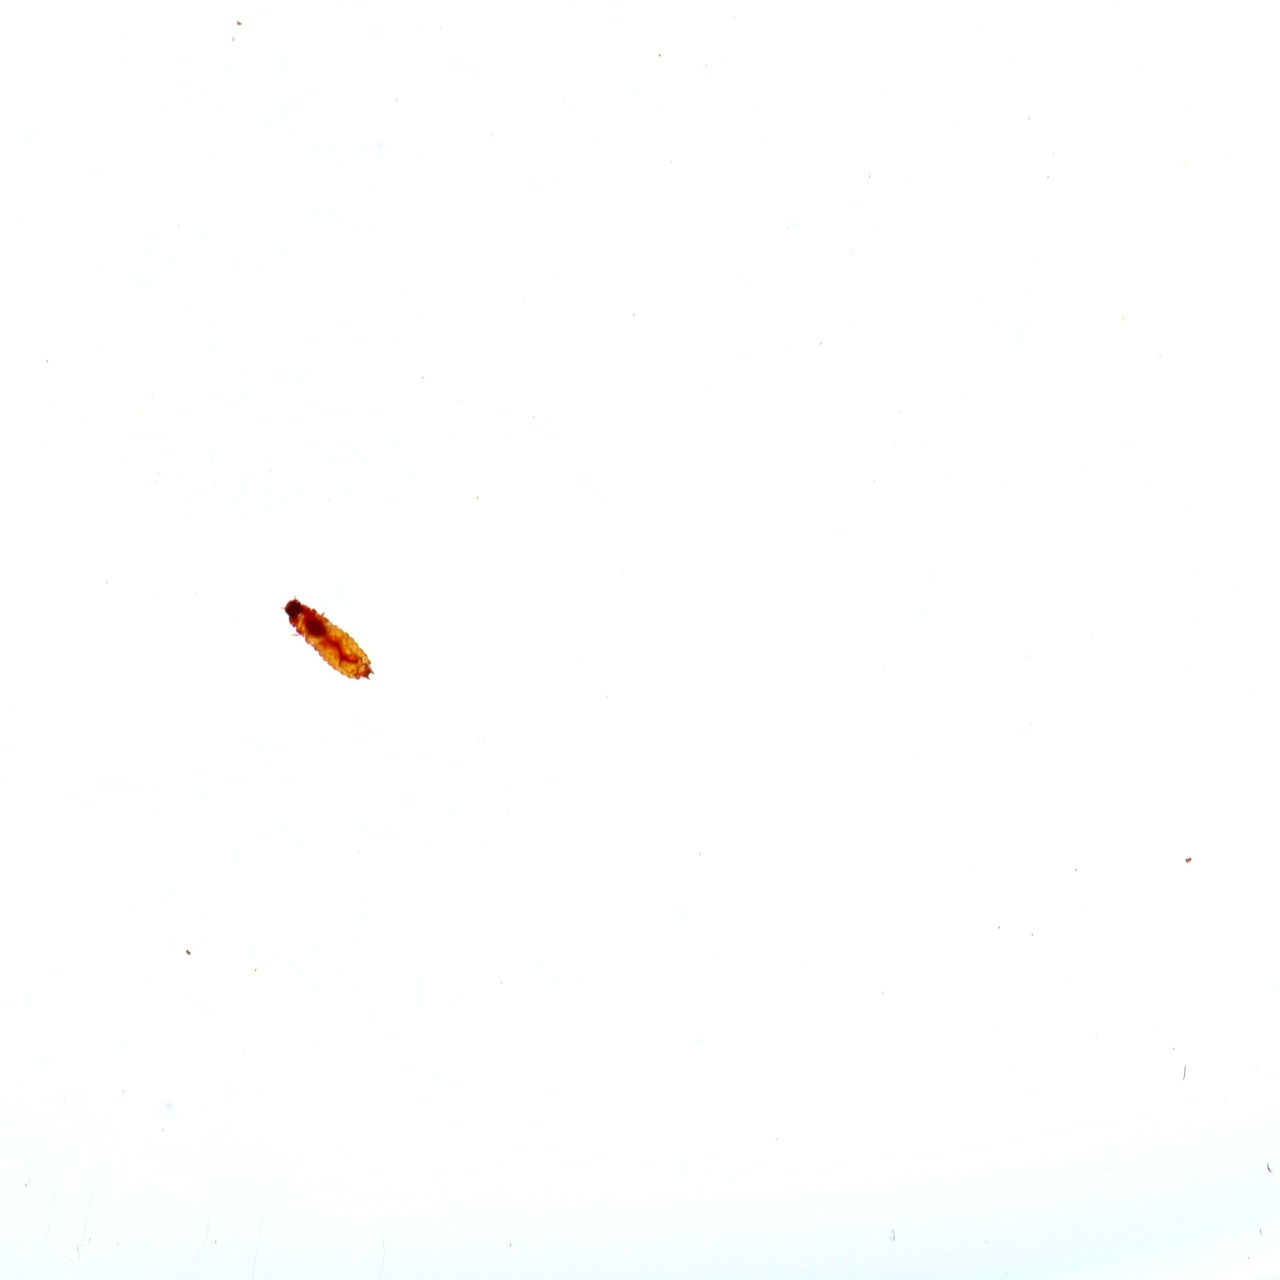arthropod: (269, 578, 386, 704)
